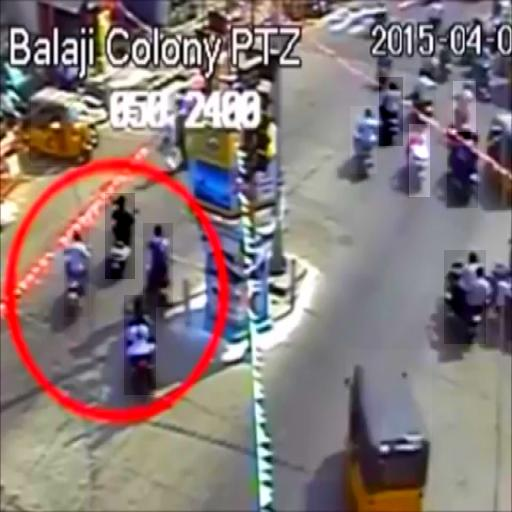小汽车: (346, 349, 432, 508), (31, 90, 91, 166)
自行车: (444, 250, 486, 344), (124, 296, 156, 396), (105, 193, 135, 279), (144, 223, 174, 307), (447, 130, 478, 208), (64, 227, 89, 317), (350, 106, 377, 174), (406, 68, 436, 124), (379, 77, 403, 146), (409, 123, 430, 197), (453, 81, 476, 132)
